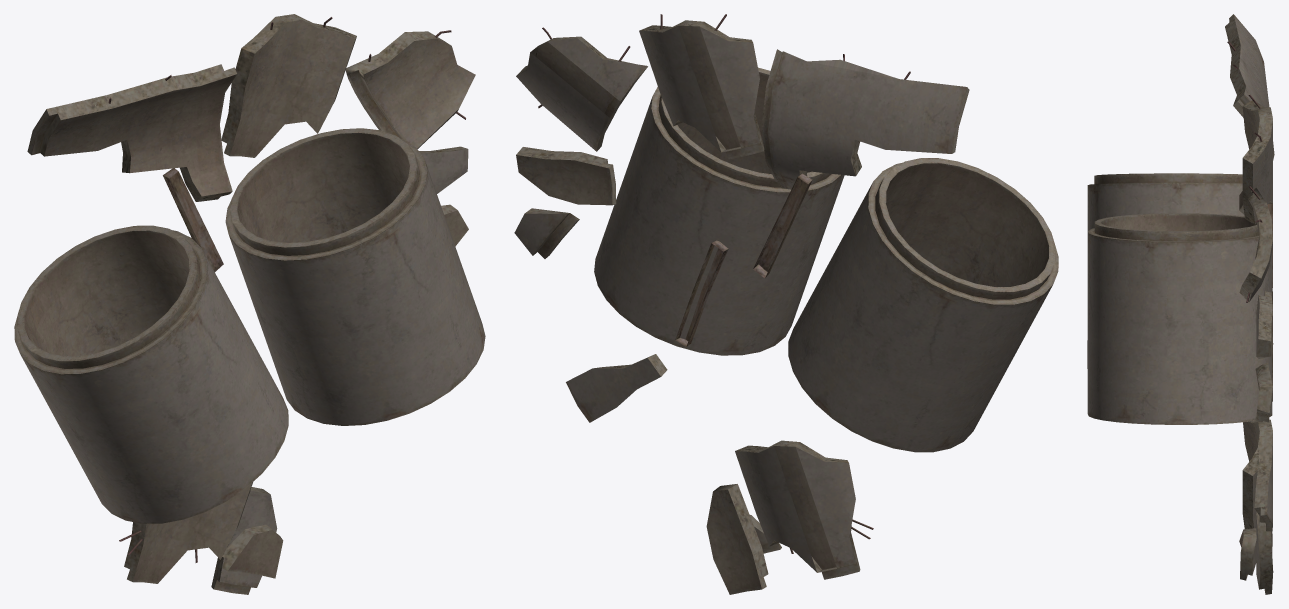
File: hd_envAM_032_ConcreteRings04.glb
The picture shows the model from 3 angles, left to right: view 1: azimuth 30°, elevation 25°; view 2: azimuth 150°, elevation 25°; view 3: azimuth 270°, elevation 25°; orthographic projection. The views are drawn at different scales.
Visible parts, largest first — view 1: set_0_group_1, set_0_group_0; view 2: set_0_group_1, set_0_group_0; view 3: set_0_group_1, set_0_group_0.
Boxes of the visible parts, left/top/right/bottom form: set_0_group_1: left=14, top=128, right=485, bottom=523; set_0_group_0: left=27, top=14, right=475, bottom=594; set_0_group_1: left=594, top=67, right=1058, bottom=452; set_0_group_0: left=514, top=14, right=969, bottom=594; set_0_group_1: left=1087, top=173, right=1272, bottom=424; set_0_group_0: left=1225, top=14, right=1274, bottom=594.
Bounding box in the file's own units: 5.39 × 6.07 × 2.03.
Materials: 2 (2 with a texture image).
